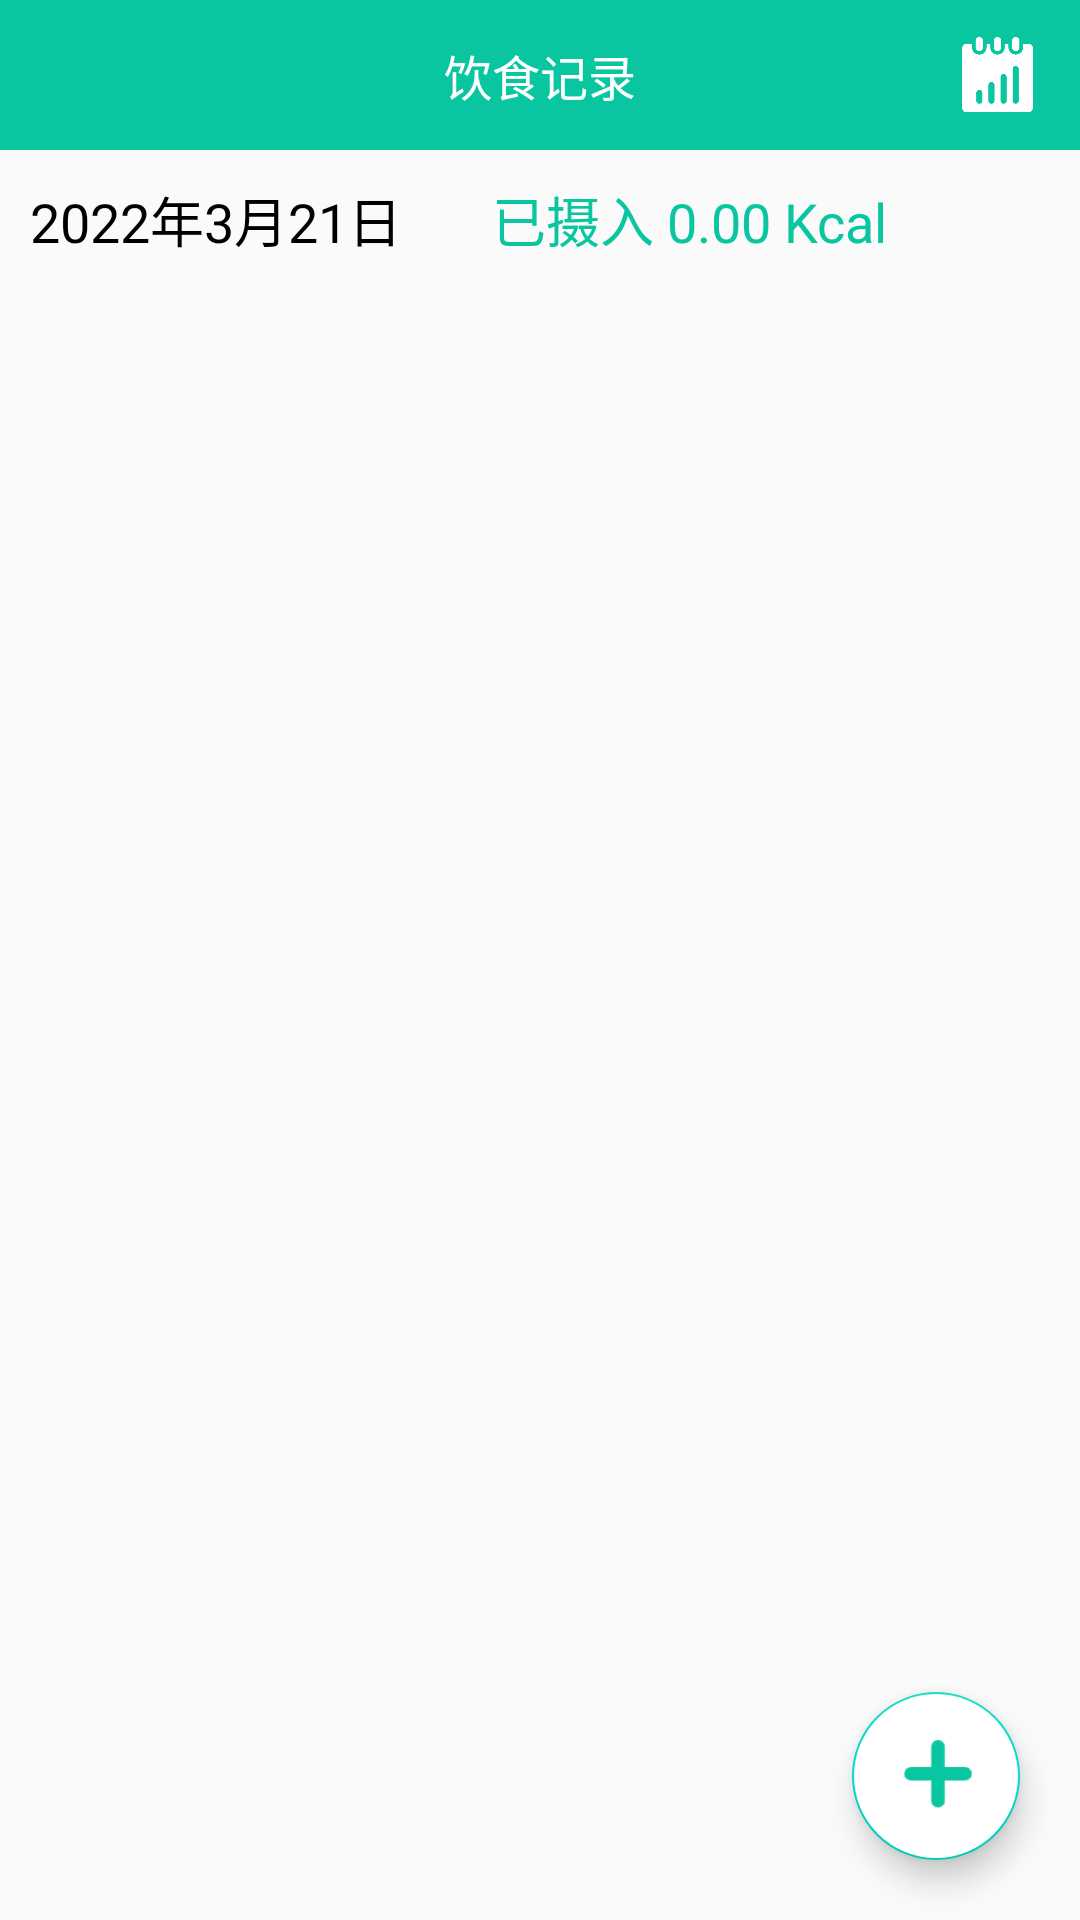

Screen size 1080w x 1920h. Icon name, then its center in pixels as point (x, y):
add: point (936, 1776)
record: point (997, 74)
